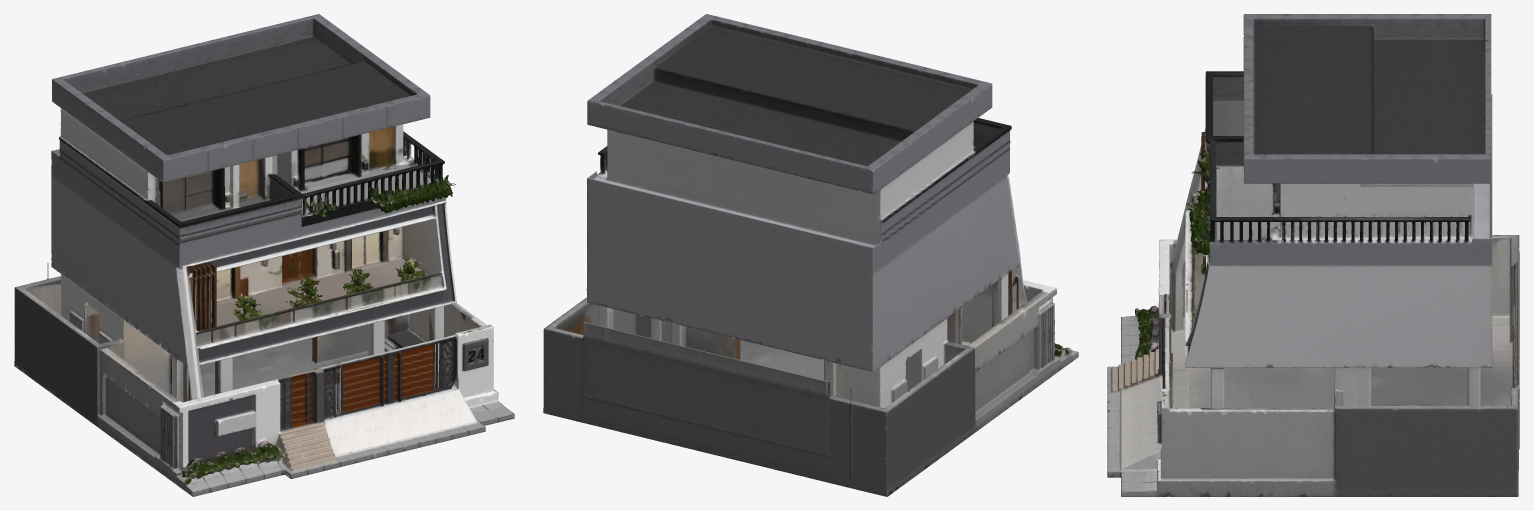
File: villa-214-6th-park.glb
3 views of the same model, side by side, from view 1: azimuth 30°, elevation 25°; view 2: azimuth 150°, elevation 25°; view 3: azimuth 270°, elevation 25° (orthographic). The views are drawn at different scales.
Bounding box in the file's own units: 1.9 × 1.64 × 1.89.
Materials: 1 (1 with a texture image).
